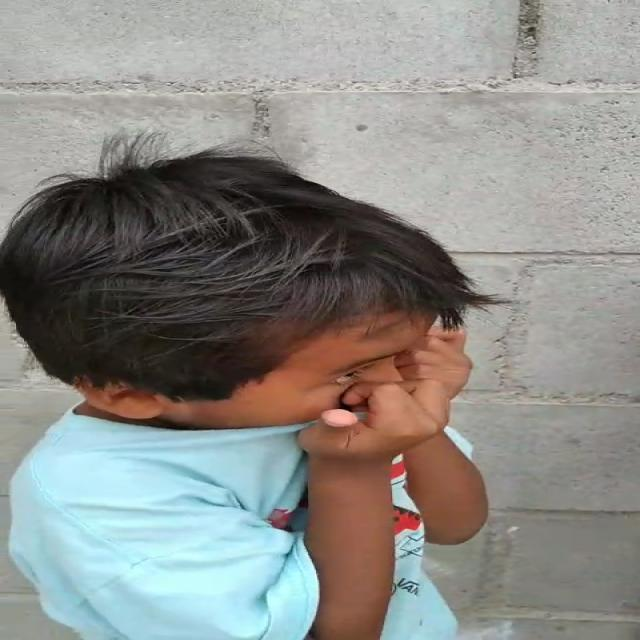8_ropa_rostro: (53, 386, 468, 489)
